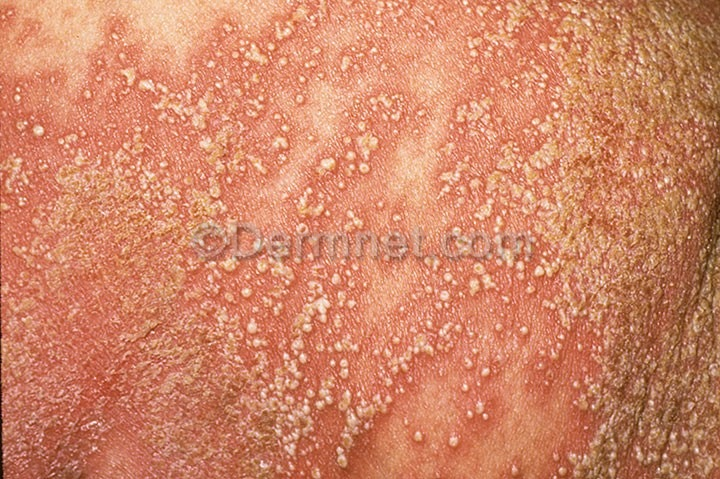Psoriasis: (7, 11, 708, 468)
